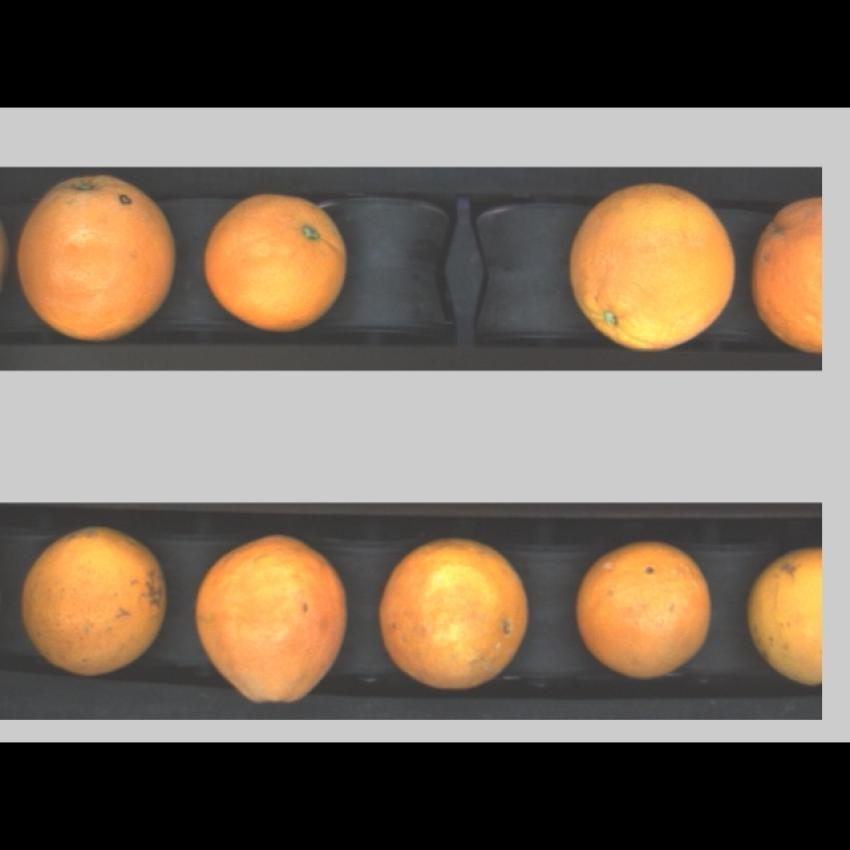Buen estado: (564, 180, 739, 351), (198, 191, 353, 339)
Mal estado: (14, 165, 182, 349), (192, 534, 351, 712), (374, 532, 544, 696), (13, 524, 179, 682), (560, 532, 721, 690), (740, 534, 821, 698), (751, 186, 822, 360)
